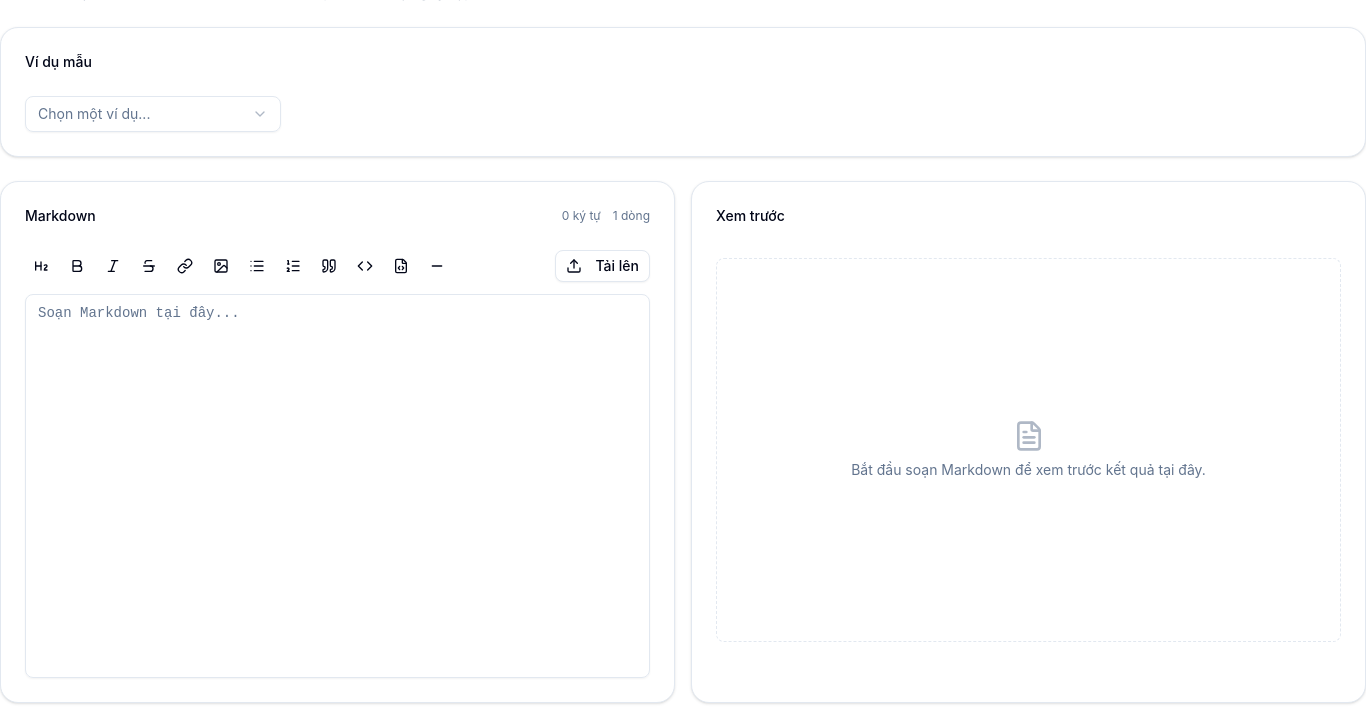
Test: MarkdownPreviewScreen › clears the Markdown content after confirming Clear
Type "# Hi" into the text box labelled "Markdown" at (338, 486), box [25,294,650,678]
(page scrolled)
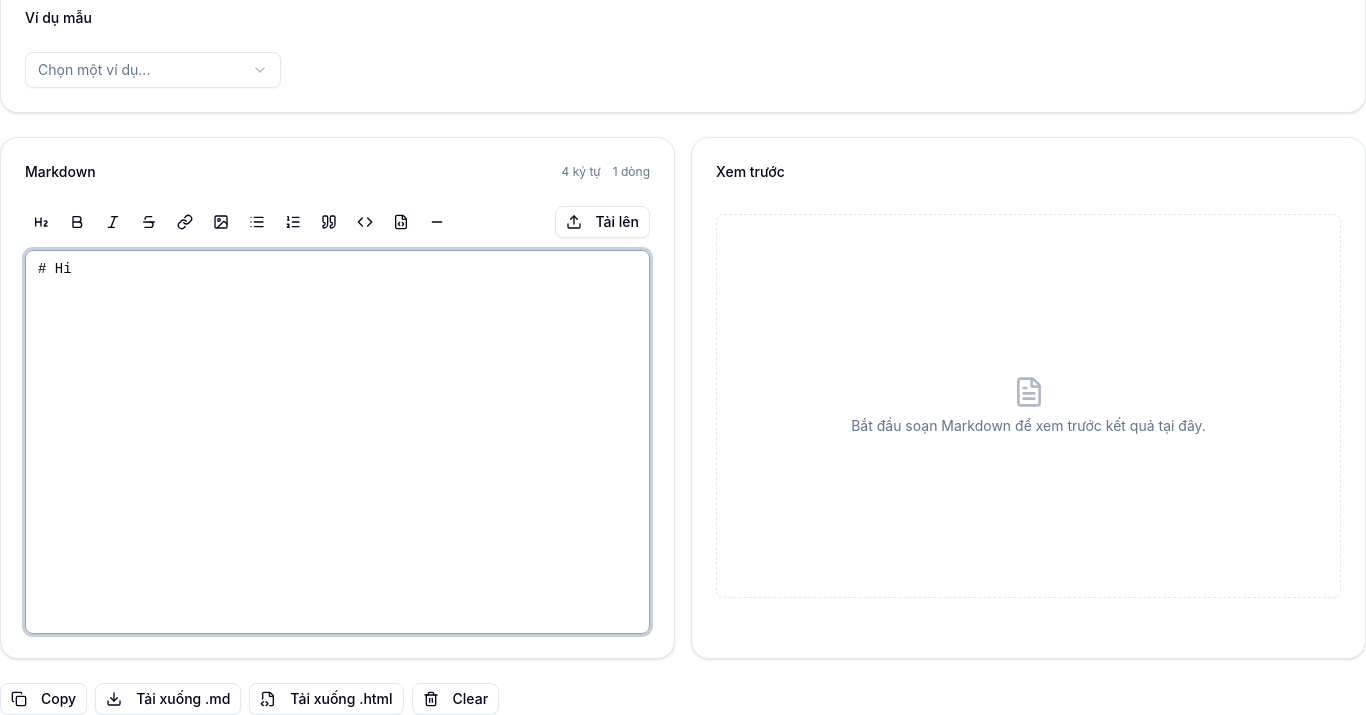
Click the button "Clear" at (455, 699), box [412,683,499,714]
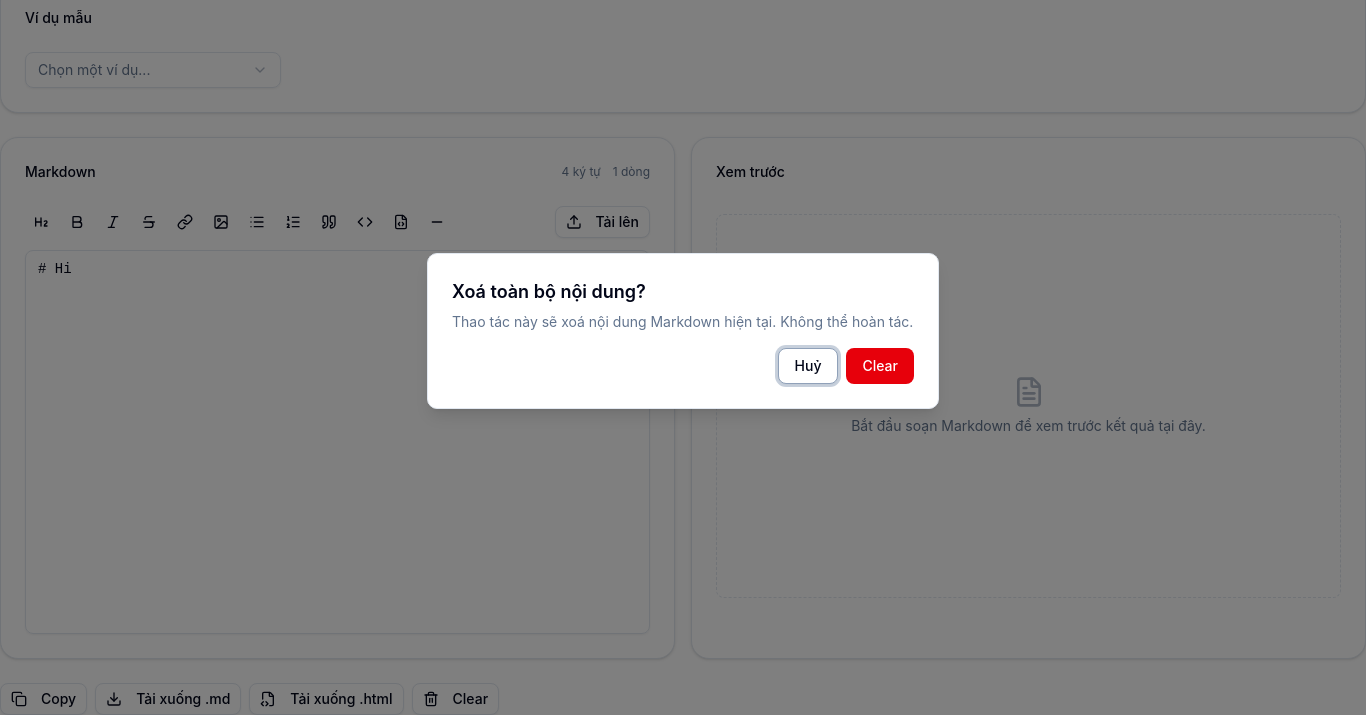
Click the button "Clear" at (880, 366), box [846,348,914,384]
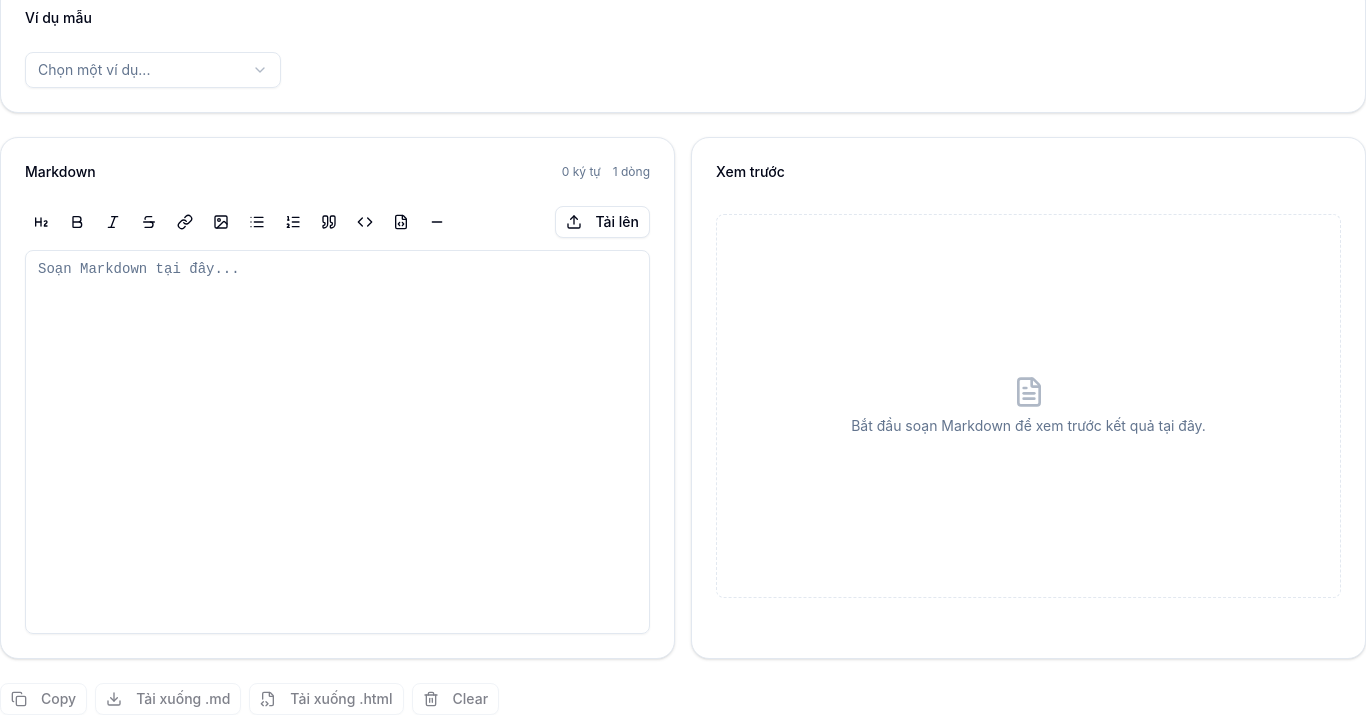
Expected: the text box labelled "Markdown" is empty, [25,250,650,634]
